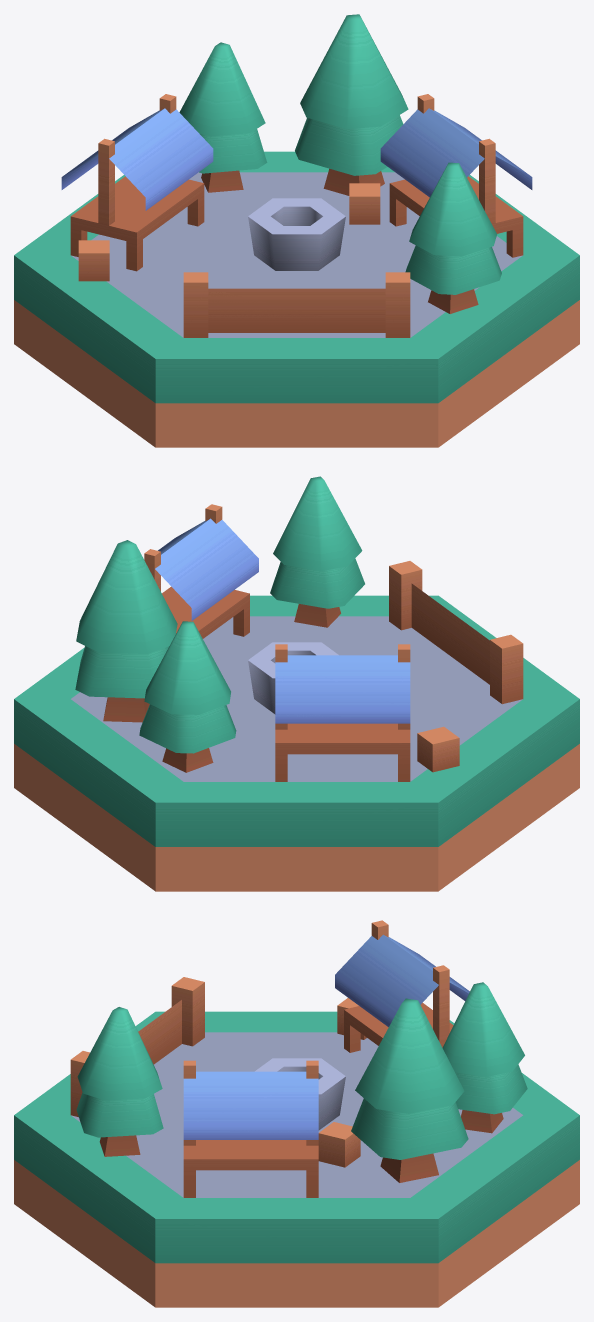
File: building-market.glb
The picture shows the model from 3 angles, top to bottom: view 1: azimuth 30°, elevation 25°; view 2: azimuth 150°, elevation 25°; view 3: azimuth 270°, elevation 25°; orthographic projection.
Visible parts, largest first — view 1: building-market; view 2: building-market; view 3: building-market.
Boxes of the visible parts, x1,y1,x2,y2 form: building-market: (14,14,579,447); building-market: (14,476,579,891); building-market: (14,920,579,1307).
Bounding box in the file's own units: 1 × 0.58 × 1.15.
Materials: 1 (1 with a texture image).
